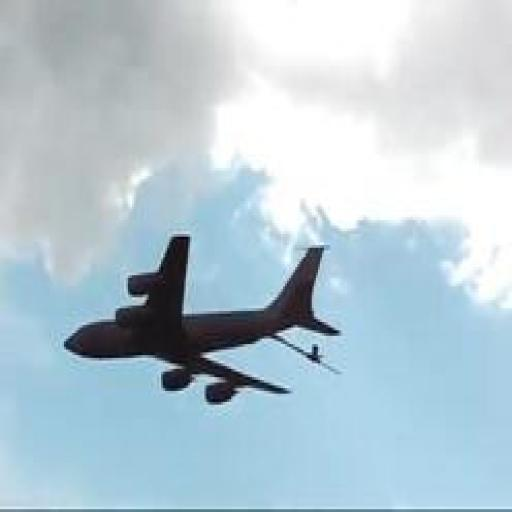aircraft: (61, 232, 344, 406)
